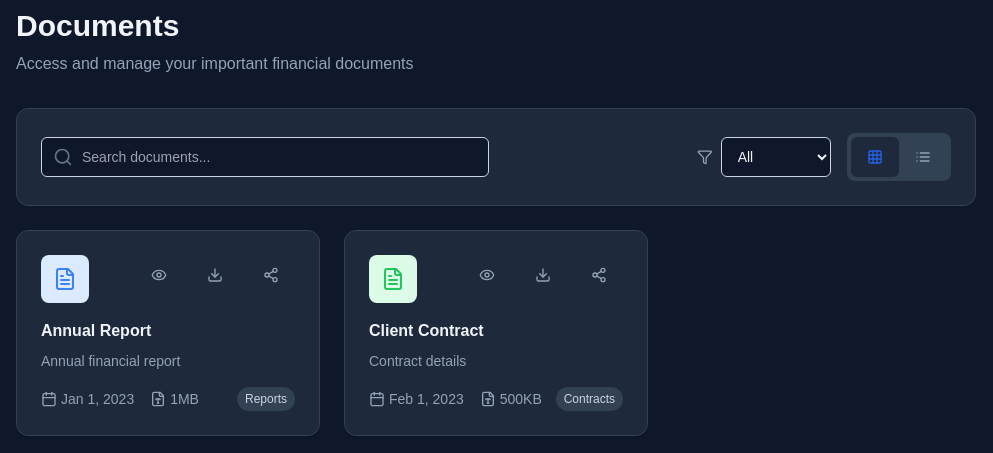
DocumentsPage › shows no documents found when filters yield no results
Expected: the heading "Annual Report" is shown, top-left (41, 322), bottom-right (151, 339)
In the field with placeholder "Search documents...": (265, 157) top-left (41, 137), bottom-right (489, 177), type "Report"
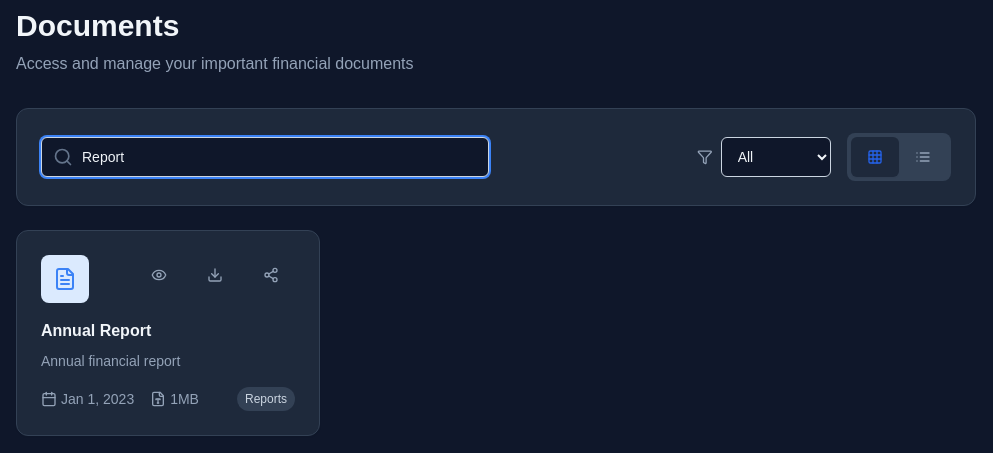
Select "Contracts" in the dropdown: (776, 157) top-left (721, 137), bottom-right (831, 177)
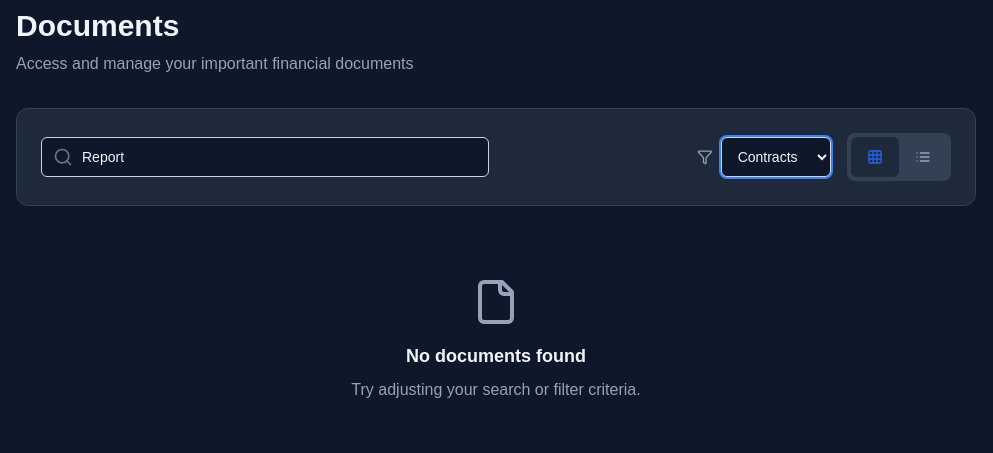
Expected: the heading "No documents found" is shown, top-left (406, 346), bottom-right (586, 366)
